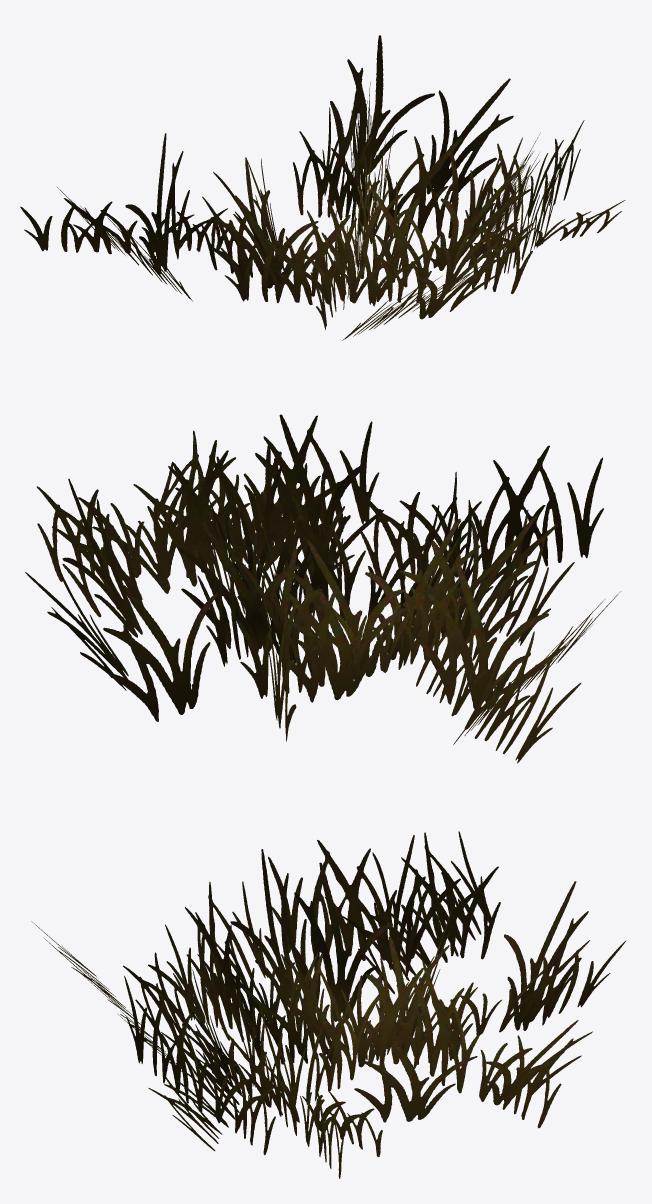
3 views of the same model, one above another, from view 1: azimuth 30°, elevation 25°; view 2: azimuth 150°, elevation 25°; view 3: azimuth 270°, elevation 25° (orthographic). The views are drawn at different scales.
Visible parts, largest first — view 1: SM_DR_GrassShort_01_LOD0; view 2: SM_DR_GrassShort_01_LOD0; view 3: SM_DR_GrassShort_01_LOD0.
Part boxes in pixels (x1,y1,x2,y2): SM_DR_GrassShort_01_LOD0: (20,35,625,340); SM_DR_GrassShort_01_LOD0: (25,414,620,763); SM_DR_GrassShort_01_LOD0: (31,831,625,1178).
Bounding box in the file's own units: 1.19 × 0.3527 × 1.09.
Materials: 1 (1 with a texture image).
